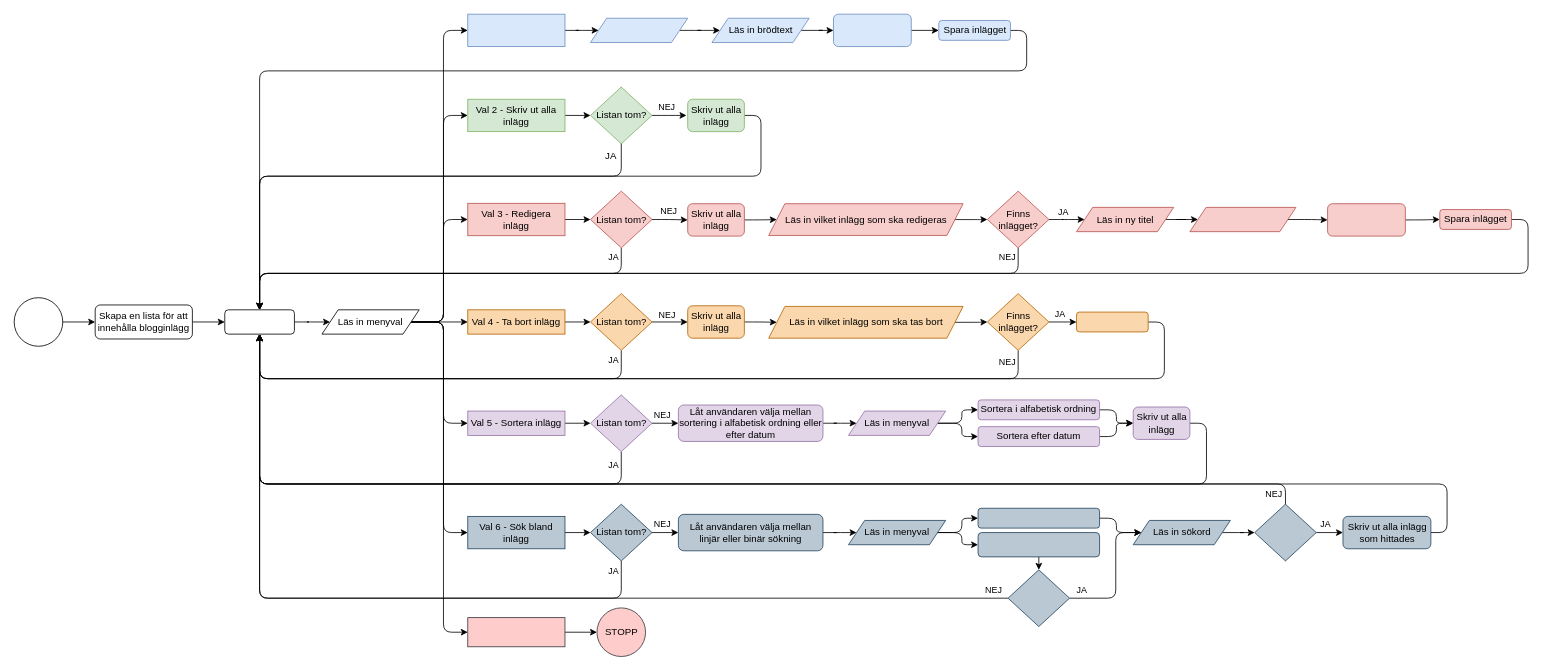
This 1549x671 diagram has some shape labels left out. Each missing label, with the centre of its shape:
"Läs in ny brödtext" belongs at (1242,219).
"Läs in titel" belongs at (639,30).
"Skriv ut meny" belongs at (259,321).
"Spara datum för inlägget" belongs at (872,30).
"Spara nytt datum för inlägget" belongs at (1366,219).
"START" belongs at (38,321).
"Sök med binär sökning" belongs at (1038,544).
"Sök med linjär sökning" belongs at (1038,517).
"Sökresultat hittades?" belongs at (1285,532).
"Ta bort inlägget" belongs at (1112,321).
"Val 1 - Skapa ett nytt inlägg" belongs at (516,30).
"Val 7 - Avsluta programmet" belongs at (516,632).
"Är listan sorterad?" belongs at (1038,598).
